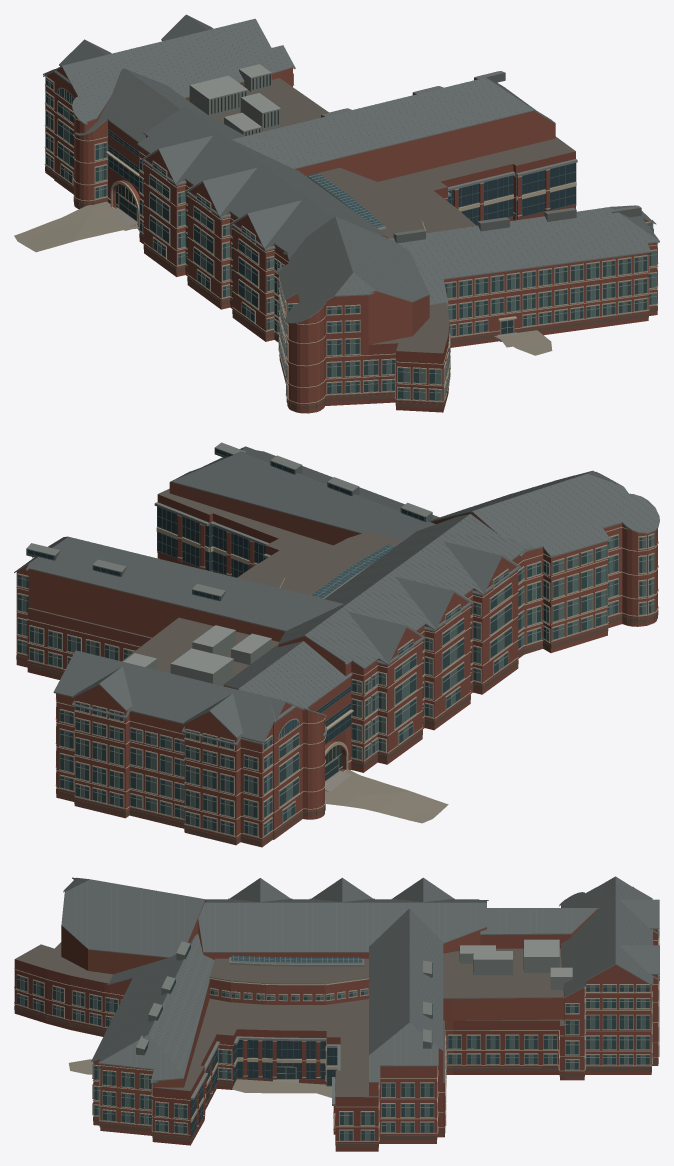
File: site.glb
The picture shows the model from 3 angles, top to bottom: view 1: azimuth 30°, elevation 25°; view 2: azimuth 150°, elevation 25°; view 3: azimuth 270°, elevation 25°; orthographic projection. The views are drawn at different scales.
Parts seen in each view (by area): view 1: roof-f52041e8, knight-law-approaches; view 2: roof-f52041e8, knight-law-approaches; view 3: roof-f52041e8, knight-law-approaches.
Boxes of the visible parts, x1,y1,x2,y2 form: roof-f52041e8: (43, 14, 659, 413); knight-law-approaches: (14, 201, 552, 355); roof-f52041e8: (14, 442, 659, 847); knight-law-approaches: (325, 769, 448, 823); roof-f52041e8: (14, 876, 659, 1151); knight-law-approaches: (68, 1059, 331, 1097).
Size of the model in its own units: 81.27 by 20.86 by 109.
